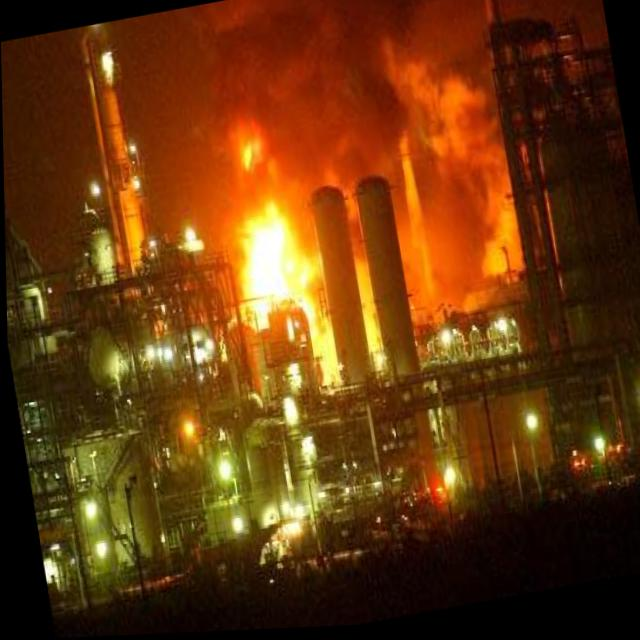fire: (219, 185, 336, 399), (230, 122, 267, 180)
